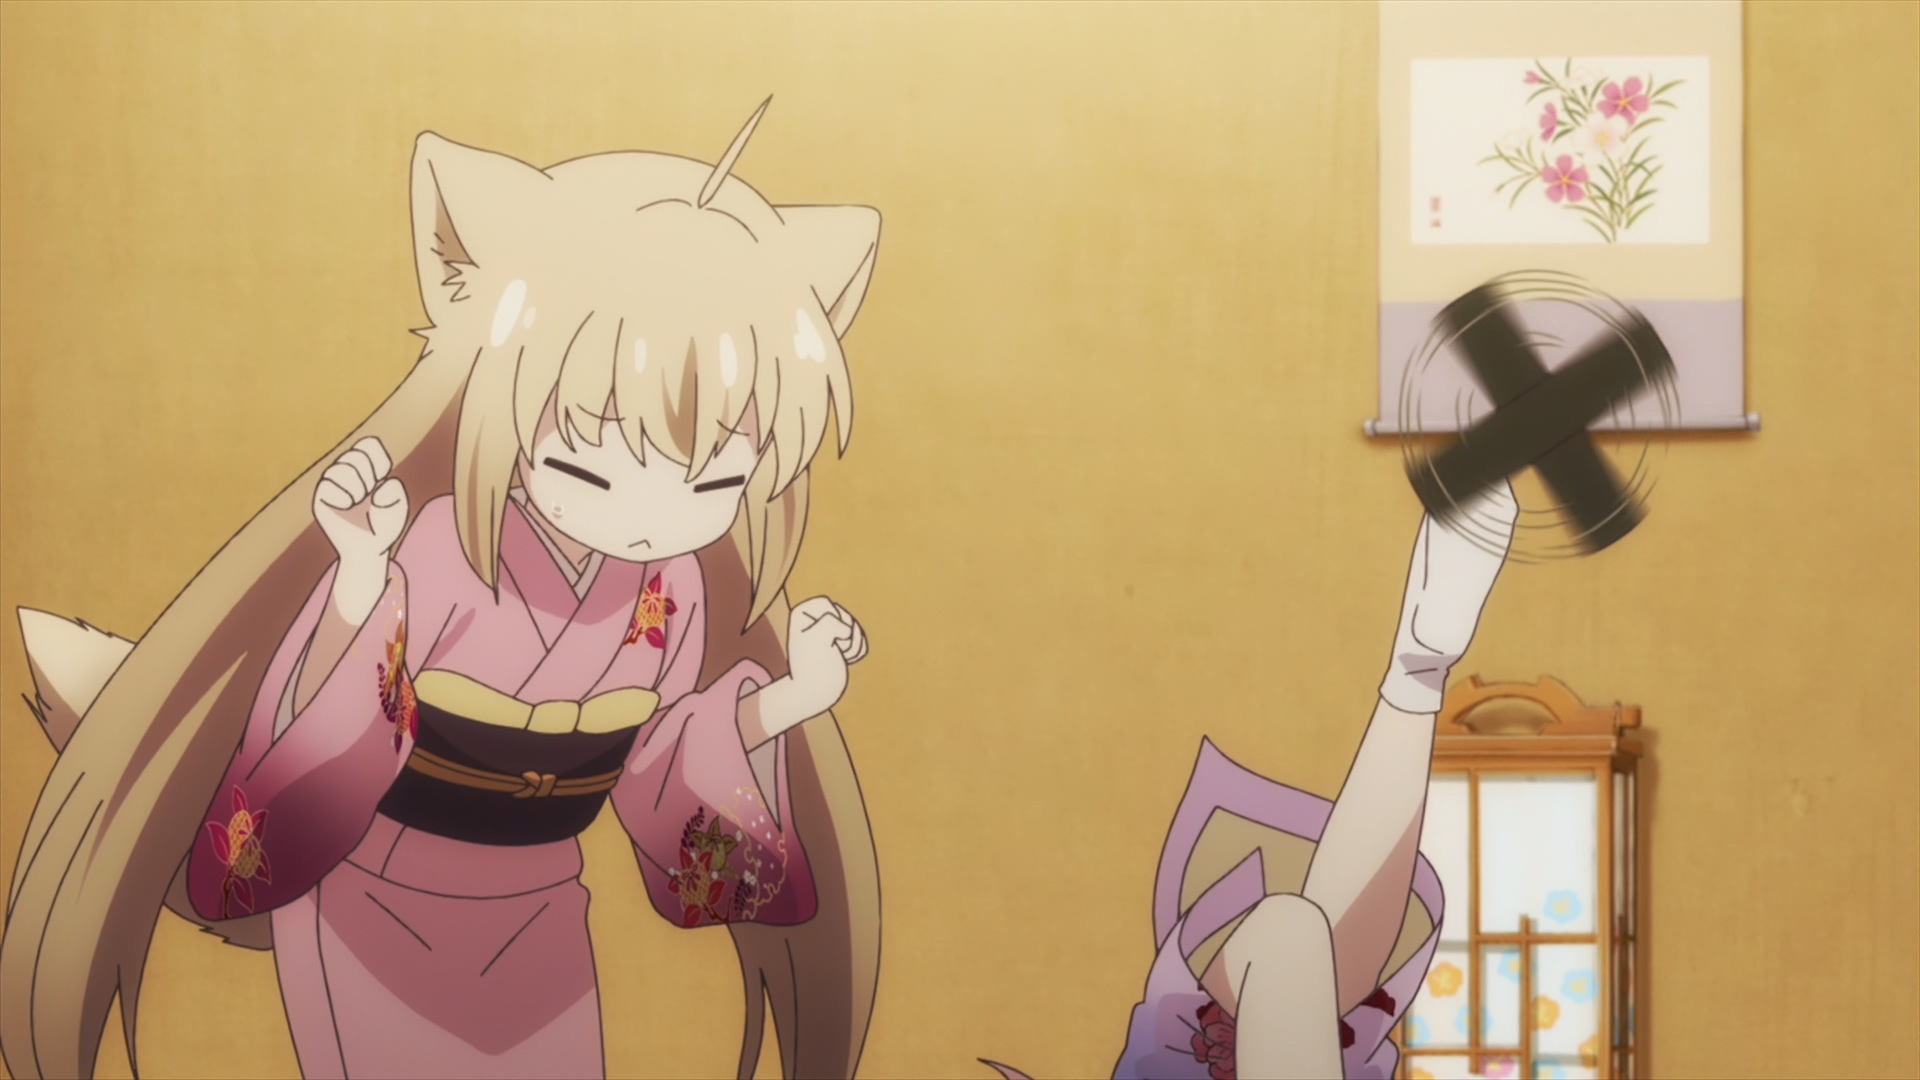其他: (1105, 456, 1518, 1080)
柚: (1, 95, 882, 1080)
